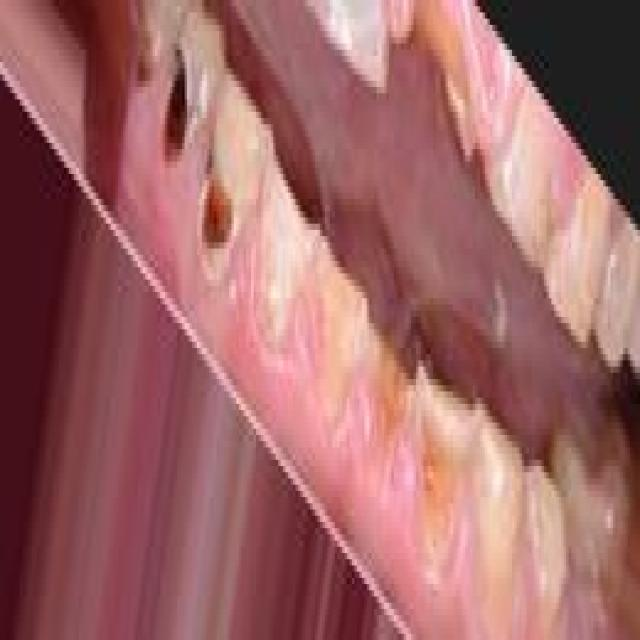caries: (416, 370, 472, 584), (192, 138, 256, 299), (417, 0, 477, 159), (313, 252, 370, 418), (362, 316, 412, 493), (156, 26, 204, 176)
